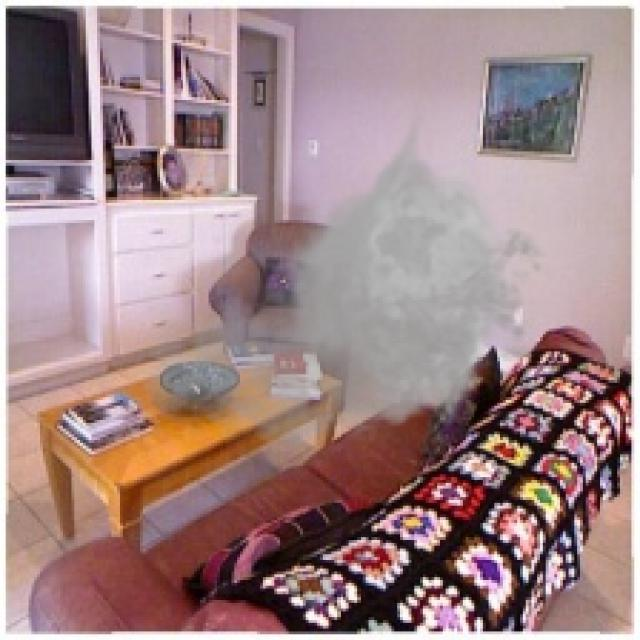Smoke: (137, 106, 560, 463)
